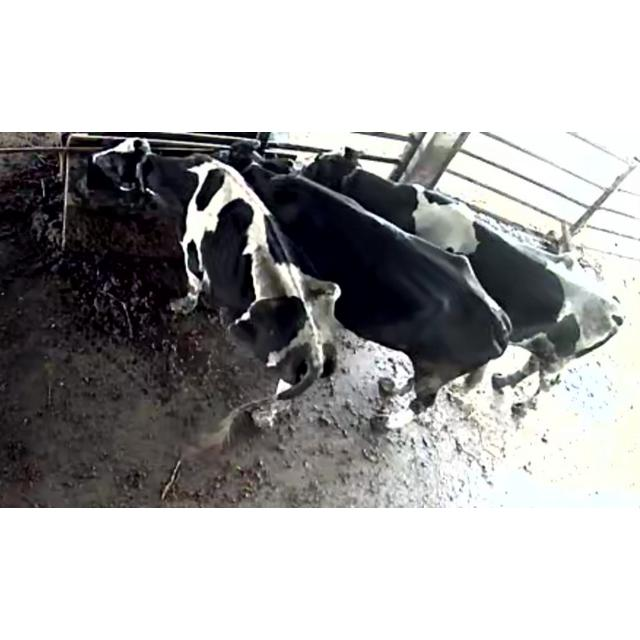drink: (71, 133, 183, 211), (198, 132, 302, 212)
